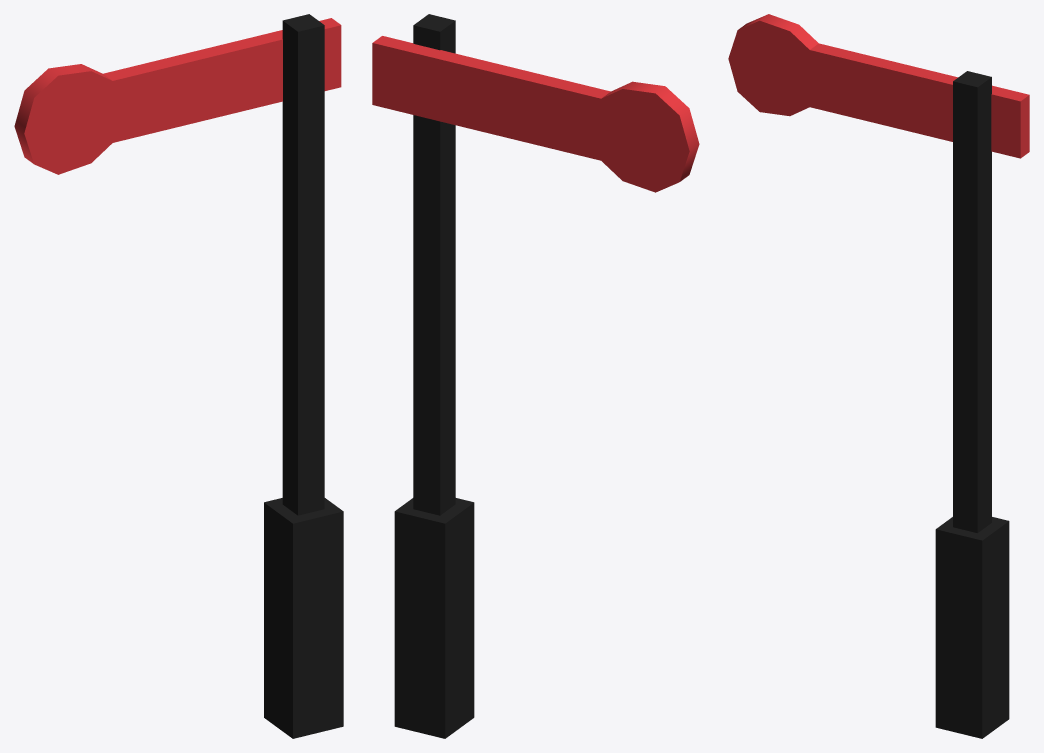
File: OswiecimTrainSign.fbx
3 renders of one model, left to right at view 1: azimuth 30°, elevation 25°; view 2: azimuth 150°, elevation 25°; view 3: azimuth 330°, elevation 25°, orthographic. The views are drawn at different scales.
Parts seen in each view (by area): view 1: SignPole, Sign; view 2: SignPole, Sign; view 3: SignPole, Sign.
Part boxes in pixels (x1=…): SignPole: x1=264, y1=14, x2=343, y2=738; Sign: x1=14, y1=18, x2=341, y2=174; SignPole: x1=394, y1=14, x2=474, y2=738; Sign: x1=372, y1=36, x2=699, y2=192; SignPole: x1=935, y1=71, x2=1009, y2=738; Sign: x1=728, y1=14, x2=1029, y2=158.
Bounding box in the file's own units: 308 × 650 × 53.29.
